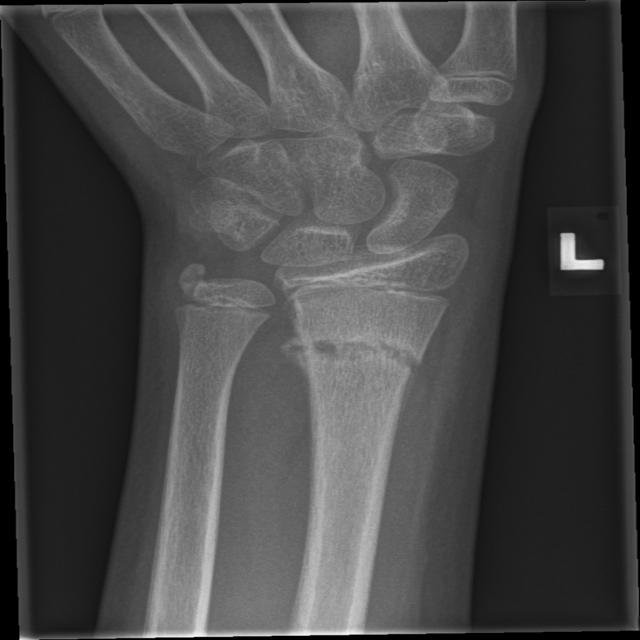radius fracture: (276, 304, 450, 438)
